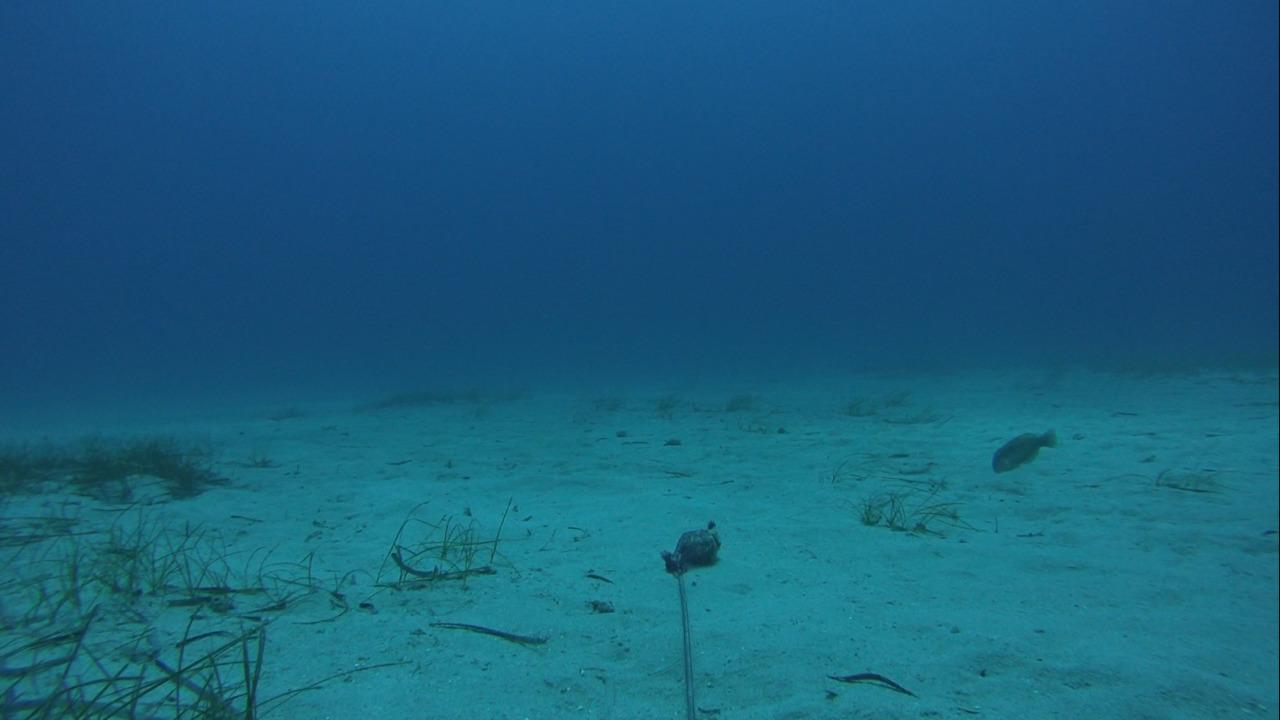raor: (989, 427, 1058, 471)
